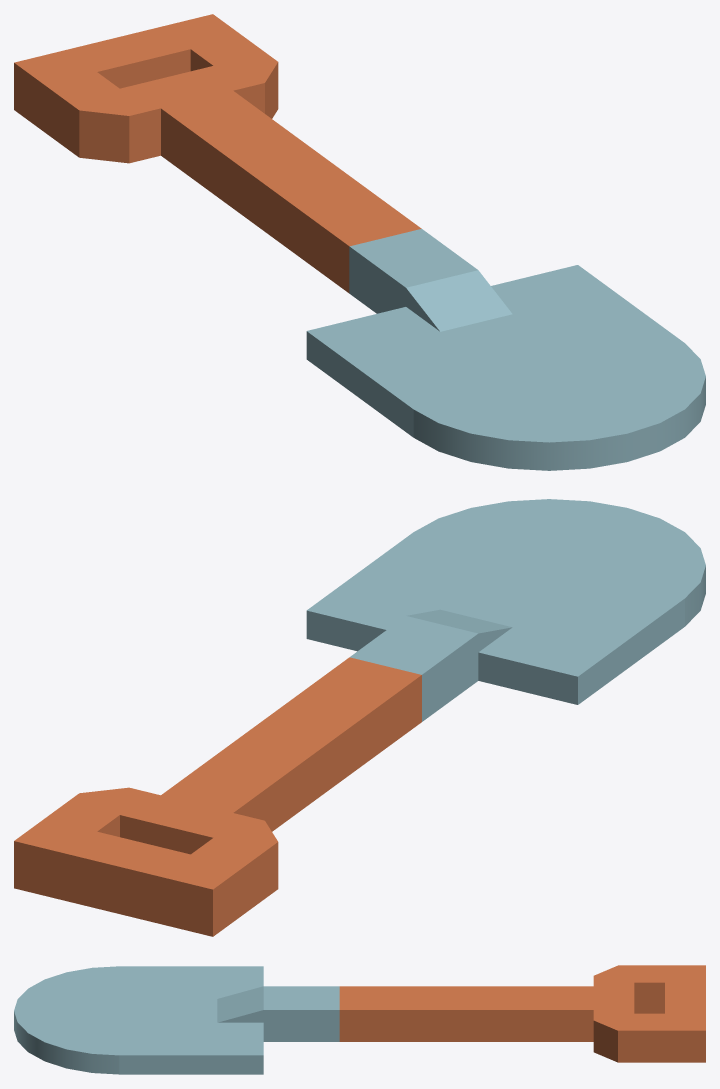
The model's file is shovel.fbx.
3 views of the same model, one above another, from view 1: azimuth 30°, elevation 25°; view 2: azimuth 150°, elevation 25°; view 3: azimuth 270°, elevation 25° (orthographic). The views are drawn at different scales.
Parts seen in each view (by area): view 1: shovel; view 2: shovel; view 3: shovel.
Part boxes in pixels (<box>): shovel: <box>14,14,705,470</box>; shovel: <box>14,499,705,936</box>; shovel: <box>14,965,705,1074</box>.
Size of the model in its own units: 1.92 by 0.32 by 6.3.
